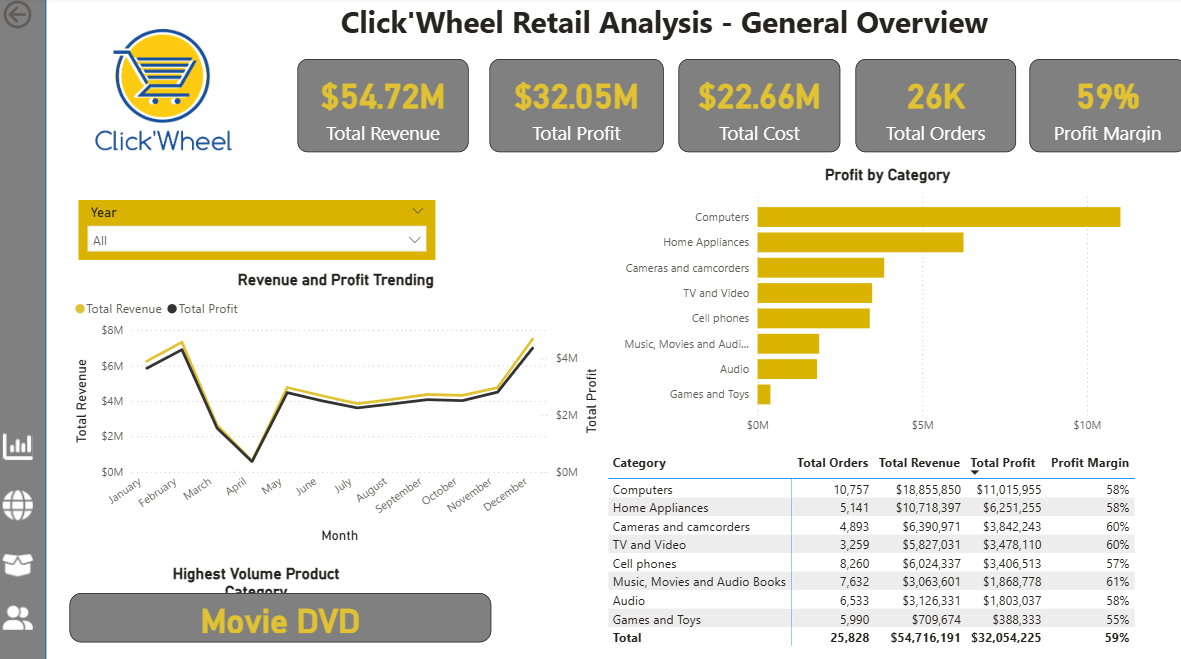

Layout of this report page (visuals, bound fields, positions):
{"tool":"powerbi","page":{"name":"Exec Dashboard","canvas":[1280,720],"ordinal":0},"visuals":[{"type":"card","fields":{"Values":["Measures (2).Profit"]},"box":[529.5,68,187.8,100.4],"z":0},{"type":"actionButton","box":[0,529.4,45.3,40.5],"z":1000,"group":"g1"},{"type":"card","fields":{"Values":["Measures (2).Total Revenue"]},"box":[322.2,68,184.6,100.4],"z":1000},{"type":"actionButton","box":[0,466.3,45.3,40.5],"z":2000,"group":"g1"},{"type":"card","fields":{"Values":["Measures (2).Total Cost"]},"box":[733.5,68,174.9,100.4],"z":2000},{"type":"card","fields":{"Values":["Measures (2).Profit Margin %"]},"box":[1112.4,68,168.4,100.4],"z":3000},{"type":"actionButton","box":[0,594.2,45.3,40.5],"z":3000,"group":"g1"},{"type":"shape","box":[0,0,51,720],"z":4000},{"type":"actionButton","box":[0,650.9,74.5,40.5],"z":4000,"group":"g1"},{"type":"lineChart","title":" Revenue and Profit Trending","fields":{"Y":["Measures (2).Total Revenue"],"Y2":["Measures (2).Total Profit"],"Category":["Sales.Order Date.Variation.Date Hierarchy.Month"]},"box":[76.1,296.3,574.8,297.9],"z":5000},{"type":"clusteredBarChart","title":" Profit by Category","fields":{"Category":["Products.Category"],"Y":["Measures (2).Total Profit"]},"box":[652.5,183,613.7,297.9],"z":6000},{"type":"pivotTable","fields":{"Rows":["Products.Category"],"Values":["Measures (2).Total Orders","Measures (2).Total Revenue","Measures (2).Total Profit","Measures (2).Profit Margin %"]},"box":[652.5,487.4,602.4,233.2],"z":7000},{"type":"image","box":[64.8,19.4,213.7,163.5],"z":8000},{"type":"card","fields":{"Values":["Min(Products.Subcategory)"]},"box":[76.1,644.5,455,53.4],"z":9000},{"type":"actionButton","box":[0,0,100,40],"z":10000},{"type":"textbox","title":"Highest Volume Product Category","box":[127.9,613.7,299.6,30.8],"z":11000},{"type":"group","id":"g1","title":"Navigation Buttons","box":[0,466.3,74.5,225.1],"z":12000},{"type":"card","fields":{"Values":["Measures (2).Total Orders"]},"box":[924.6,68,173.3,100.4],"z":13000},{"type":"slicer","fields":{"Values":["Sales.Order Date.Variation.Date Hierarchy.Year"]},"box":[85.8,220.2,385.4,64.8],"z":14000},{"type":"textbox","box":[246.1,0,944,56.7],"z":15000}]}

Visuals, with their boxes on the page's 1280x720 design canvas (x1, y1, x2, y2). These are canvas units, not pixel positions in the 1181x659 screenshot, which may show the page scaled, cropped or inside an application window:
card - Measures (2).Profit: l=530, t=68, r=717, b=168
actionButton: l=0, t=529, r=45, b=570
card - Measures (2).Total Revenue: l=322, t=68, r=507, b=168
actionButton: l=0, t=466, r=45, b=507
card - Measures (2).Total Cost: l=734, t=68, r=908, b=168
card - Measures (2).Profit Margin %: l=1112, t=68, r=1281, b=168
actionButton: l=0, t=594, r=45, b=635
shape: l=0, t=0, r=51, b=720
actionButton: l=0, t=651, r=74, b=691
" Revenue and Profit Trending" lineChart: l=76, t=296, r=651, b=594
" Profit by Category" clusteredBarChart: l=652, t=183, r=1266, b=481
pivotTable - Products.Category x Measures (2).Total Orders: l=652, t=487, r=1255, b=721
image: l=65, t=19, r=278, b=183
card - Min(Products.Subcategory): l=76, t=644, r=531, b=698
actionButton: l=0, t=0, r=100, b=40
"Highest Volume Product Category" textbox: l=128, t=614, r=428, b=644
"Navigation Buttons" group: l=0, t=466, r=74, b=691
card - Measures (2).Total Orders: l=925, t=68, r=1098, b=168
slicer - Sales.Order Date.Variation.Date Hierarchy.Year: l=86, t=220, r=471, b=285
textbox: l=246, t=0, r=1190, b=57
